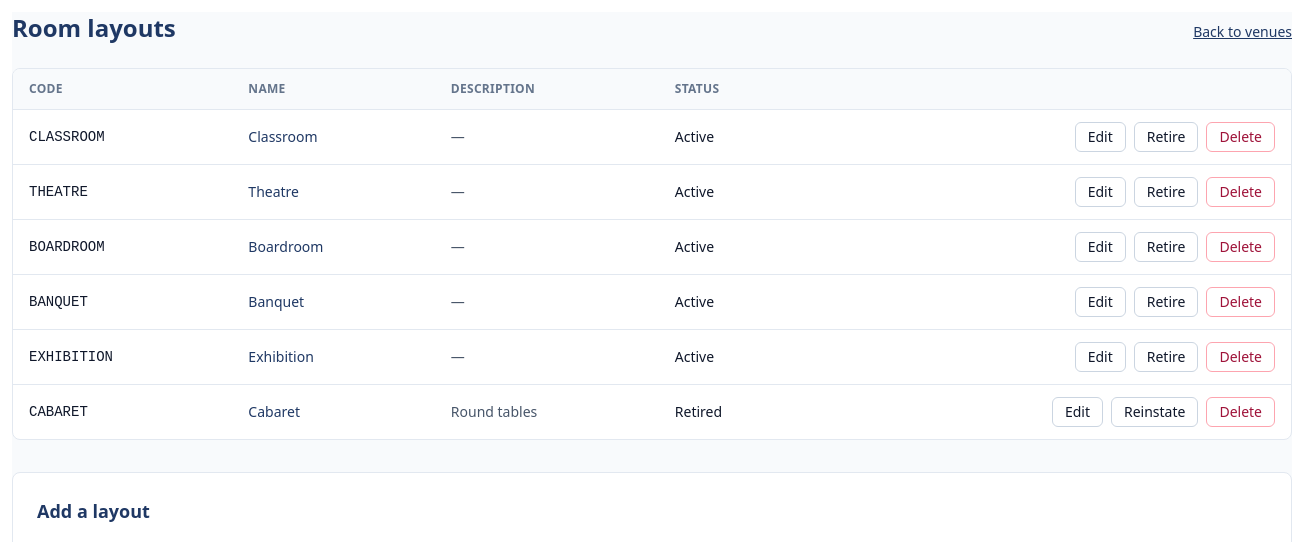
Test: RoomLayouts (SCRUM-91) › AC2: renames a layout; its code is shown but cannot be edited
The image size is (1304, 542).
Click the button with aria-label "Edit Theatre". click: [1100, 192]
box: [1075,177,1126,207]
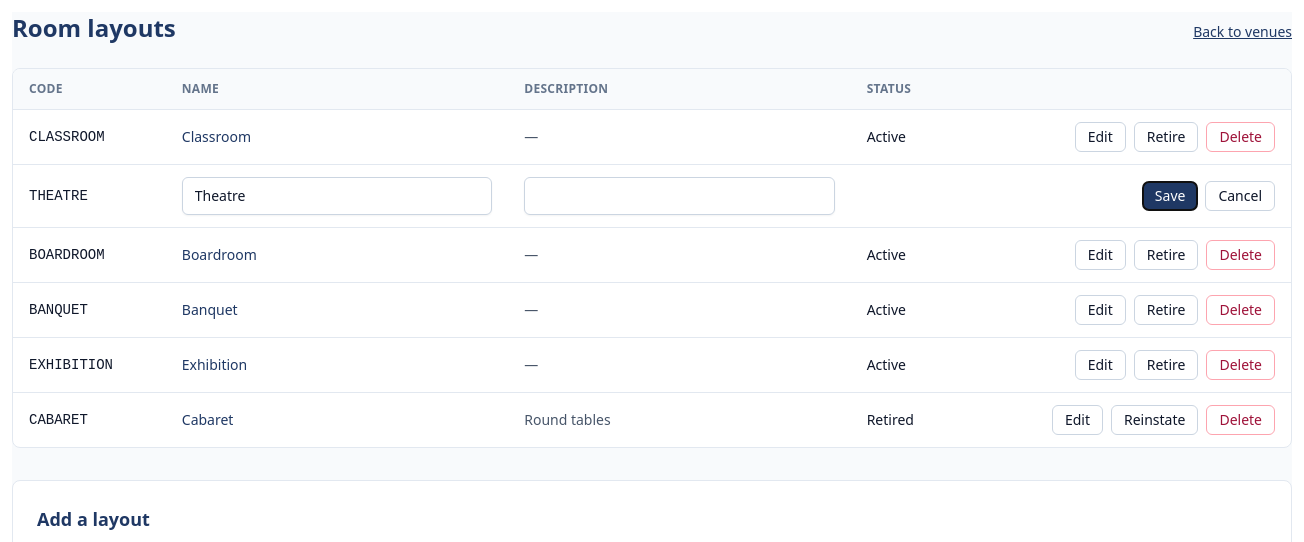
Replace the text in the field named "Name for THEATRE" with "Lecture theatre". click: [337, 196]
box: [182,177,492,215]
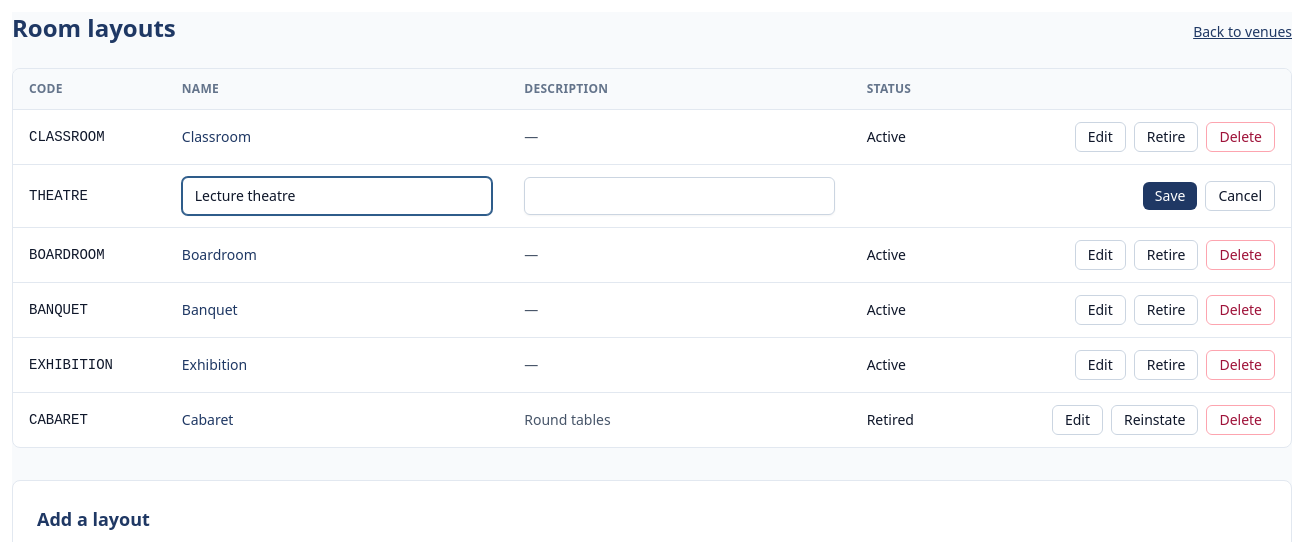
Type "Tiered rows" into the field named "Description for THEATRE". click: [679, 196]
box: [524,177,835,215]
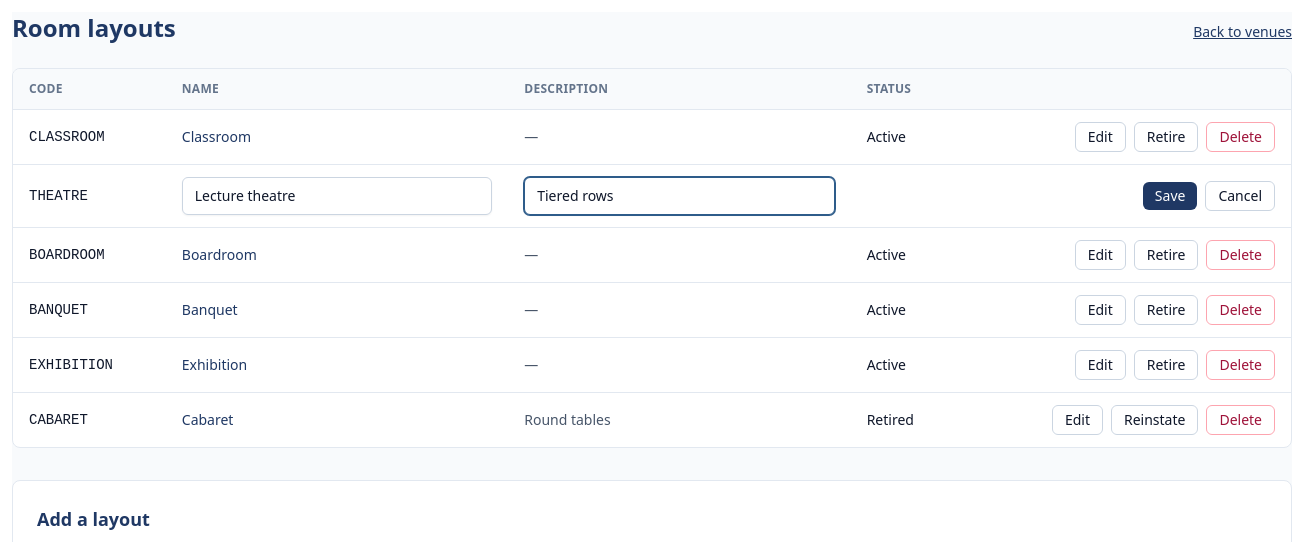
Click the button "Save". click: [1170, 196]
box: [1143,182,1197,210]
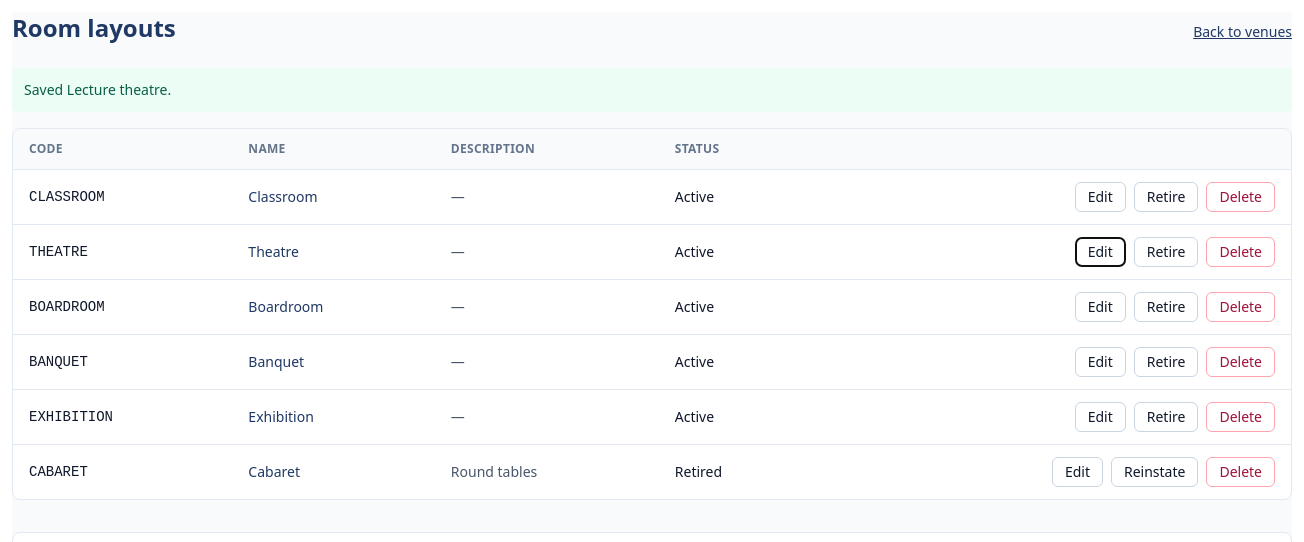
Now the message reads "Saved Lecture theatre.", box [24,80,171,99]
